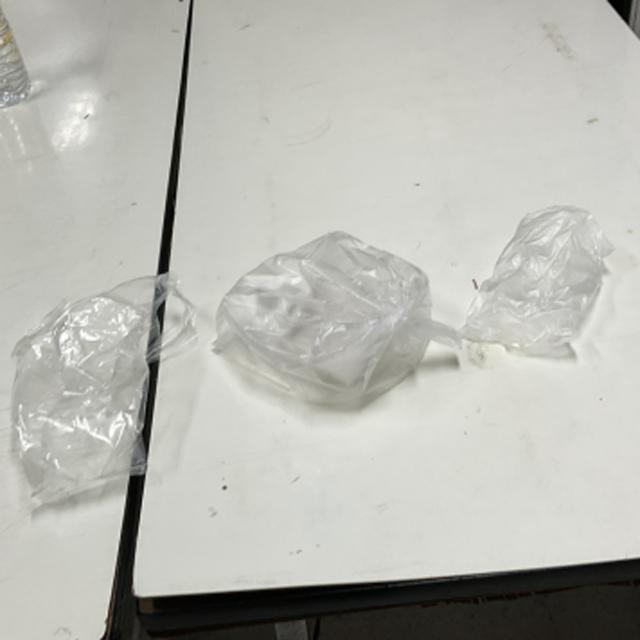Single-layer Plastic: (214, 231, 460, 408), (12, 274, 196, 502), (461, 205, 614, 358)
